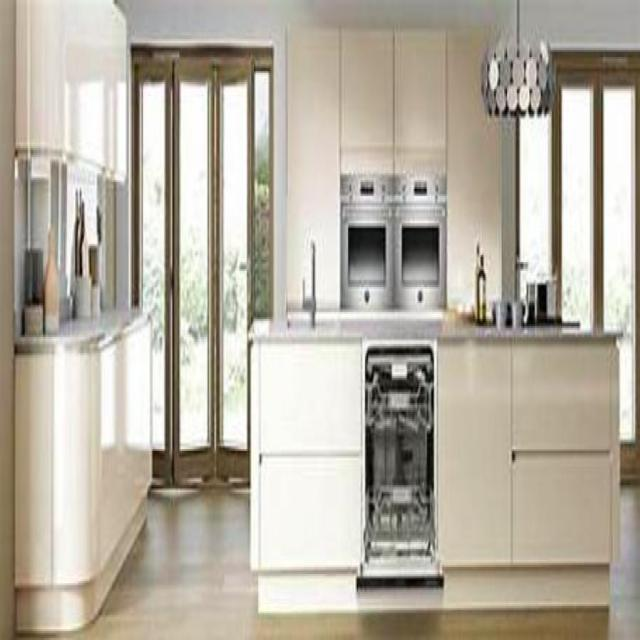dishwasher: (361, 339, 442, 599)
